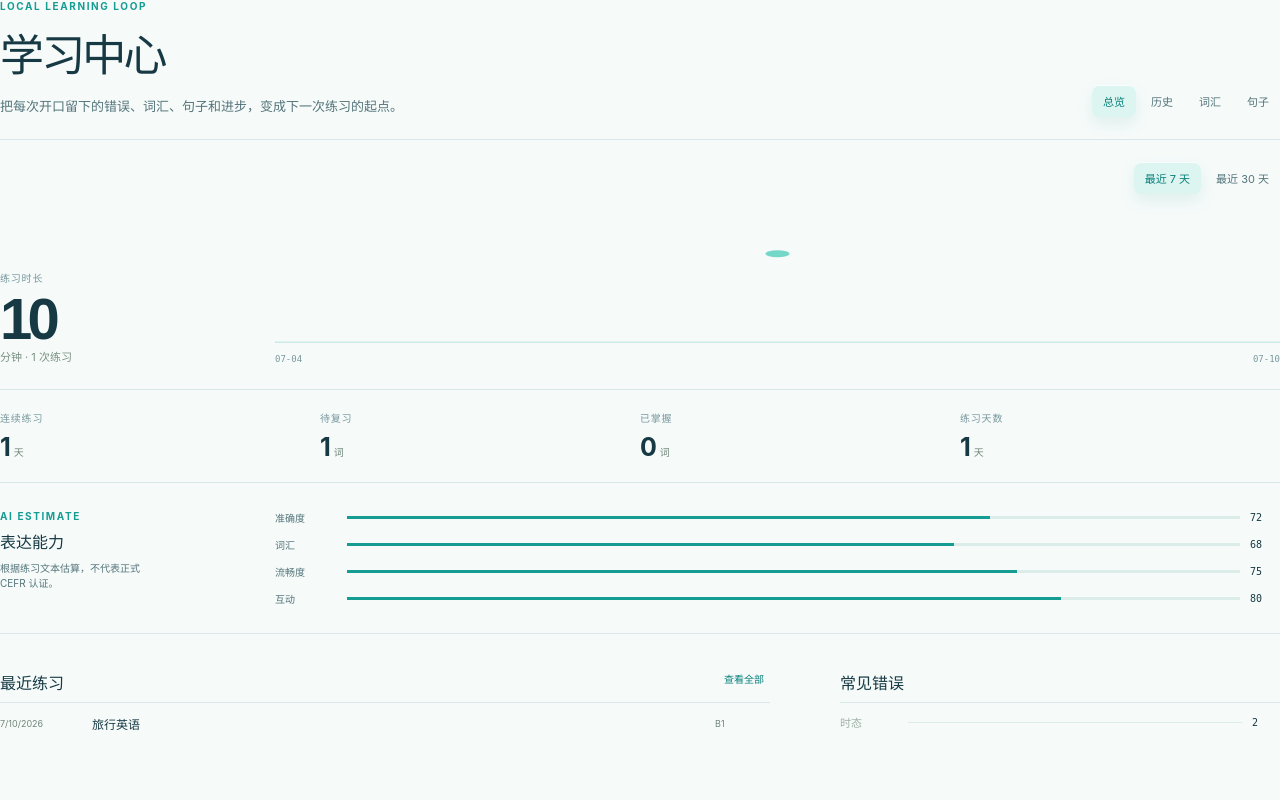
it: LearningCenter › shows the analysis generated with the review and moves the sentence between learning groups
Click the button "句子".
click(1258, 101)  # box [1236, 85, 1279, 117]
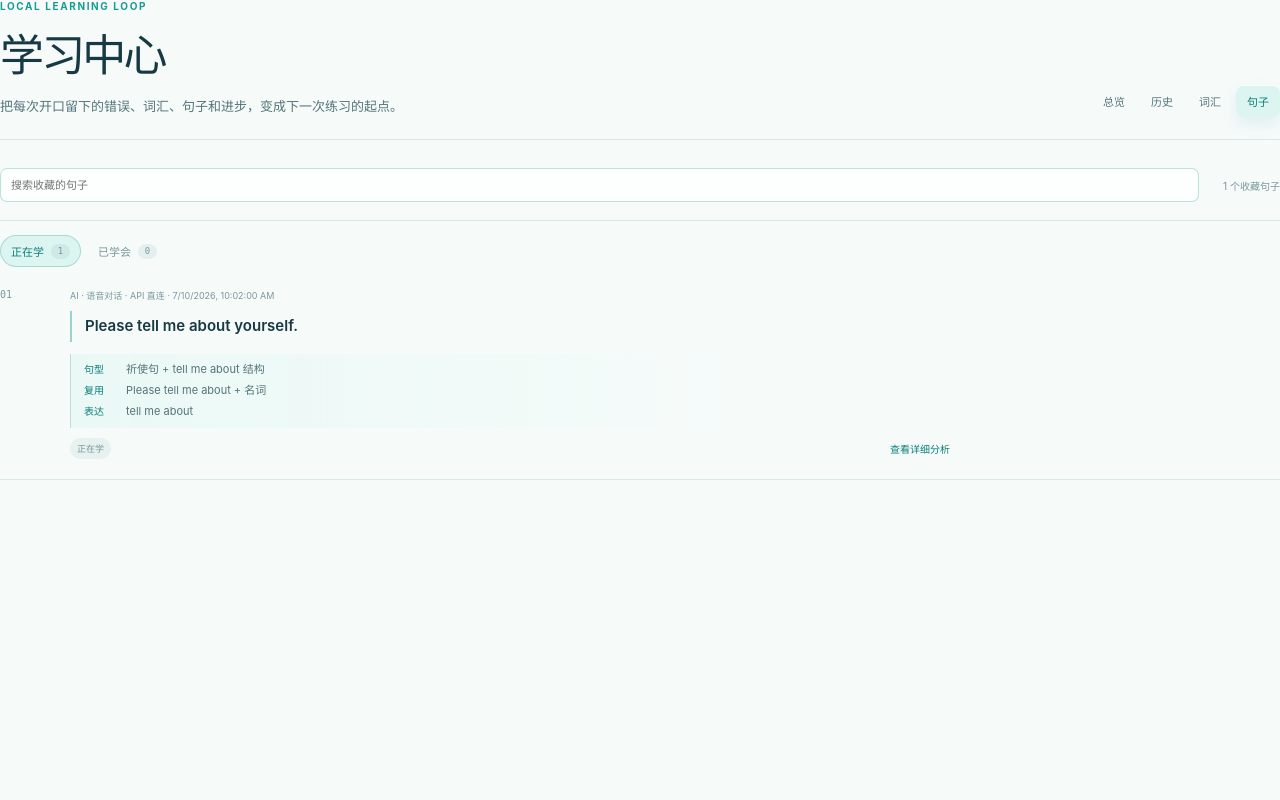
Check: the field named "搜索收藏句子" is shown, box [0, 168, 1199, 202]
Check: the text "Please tell me about yourself." is shown, box [70, 311, 920, 342]
Check: the text "AI · 语音对话 · API 直连" is shown, box [70, 290, 274, 301]
Click the button with class "sentence-row-button".
click(675, 374)  # box [70, 289, 1279, 459]
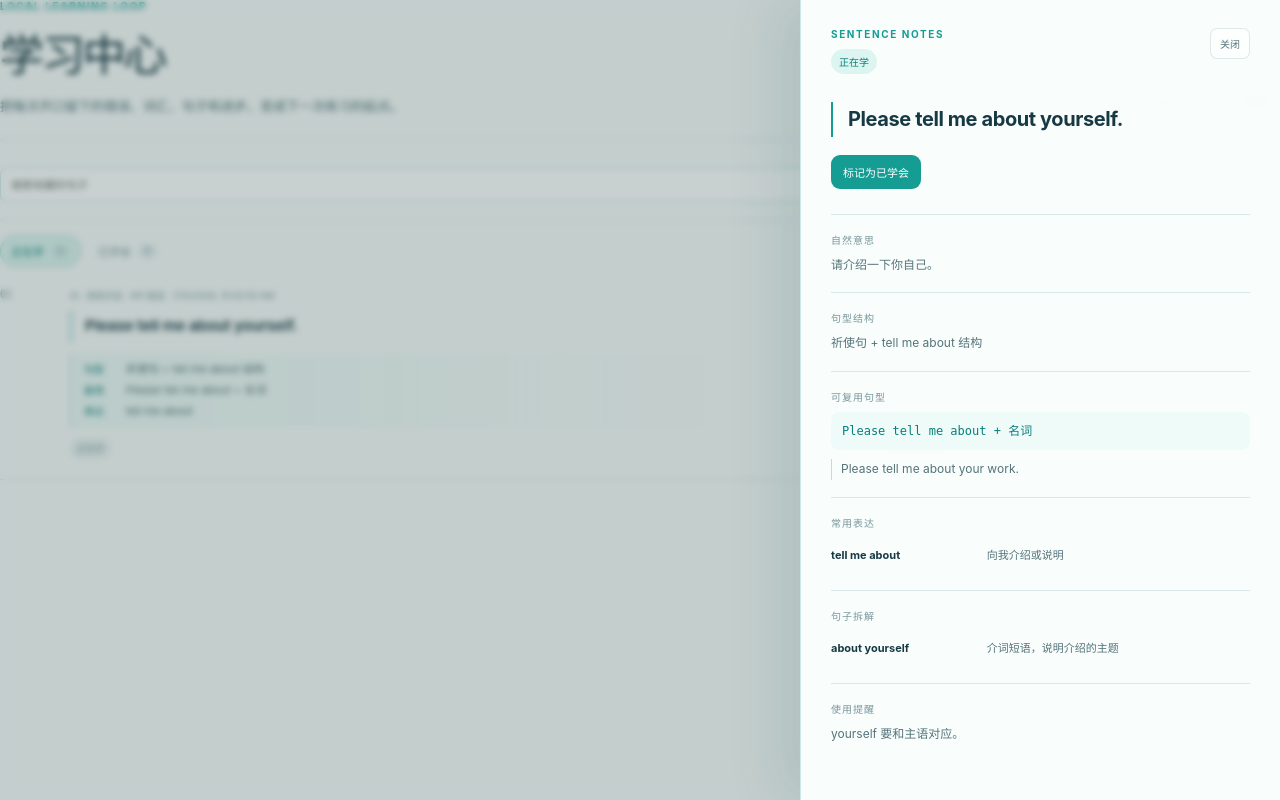
Check: the text "请介绍一下你自己。" is shown, box [831, 257, 939, 272]
Click the button "标记为已学会".
click(876, 172)  # box [831, 155, 921, 189]
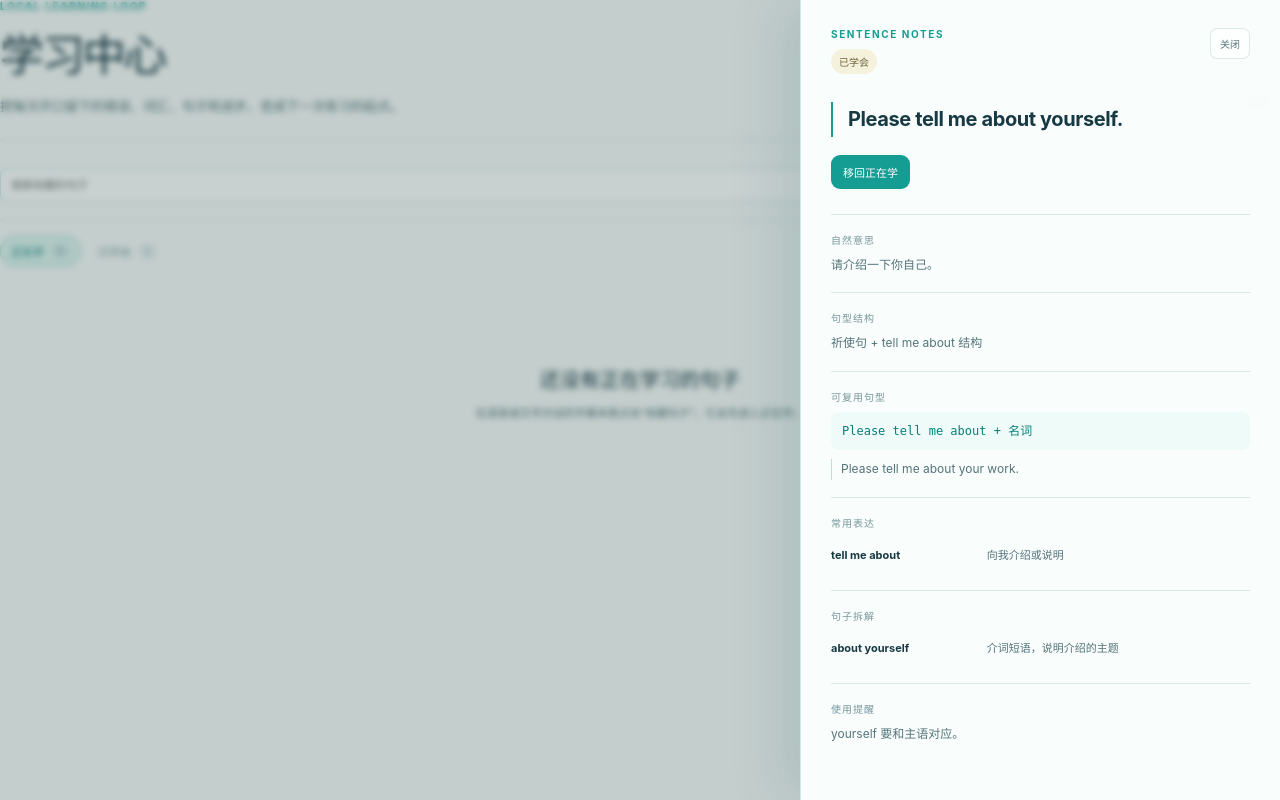
Check: the text "移回正在学" is shown, box [831, 155, 910, 189]
Click the button "关闭".
click(1230, 44)  # box [1210, 28, 1250, 59]
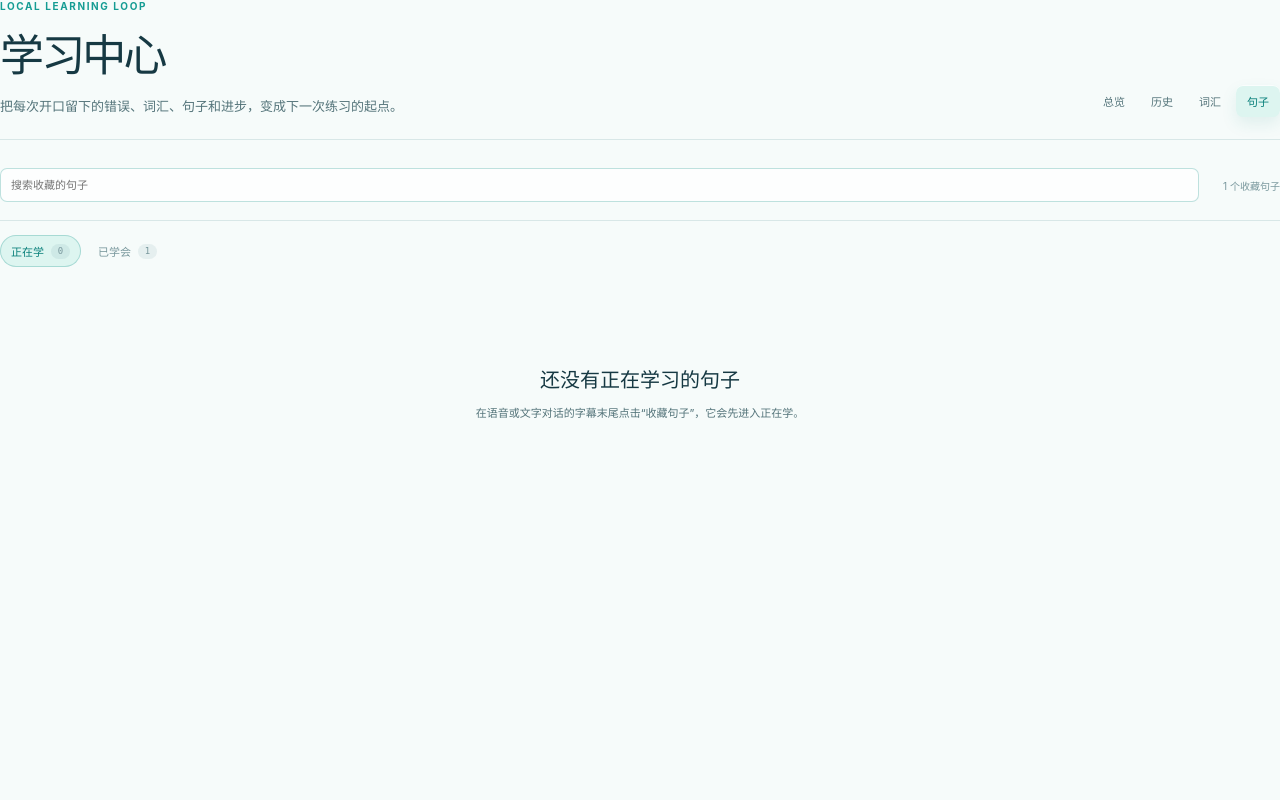
Click the tab "已学会 1".
click(128, 251)  # box [87, 235, 168, 267]
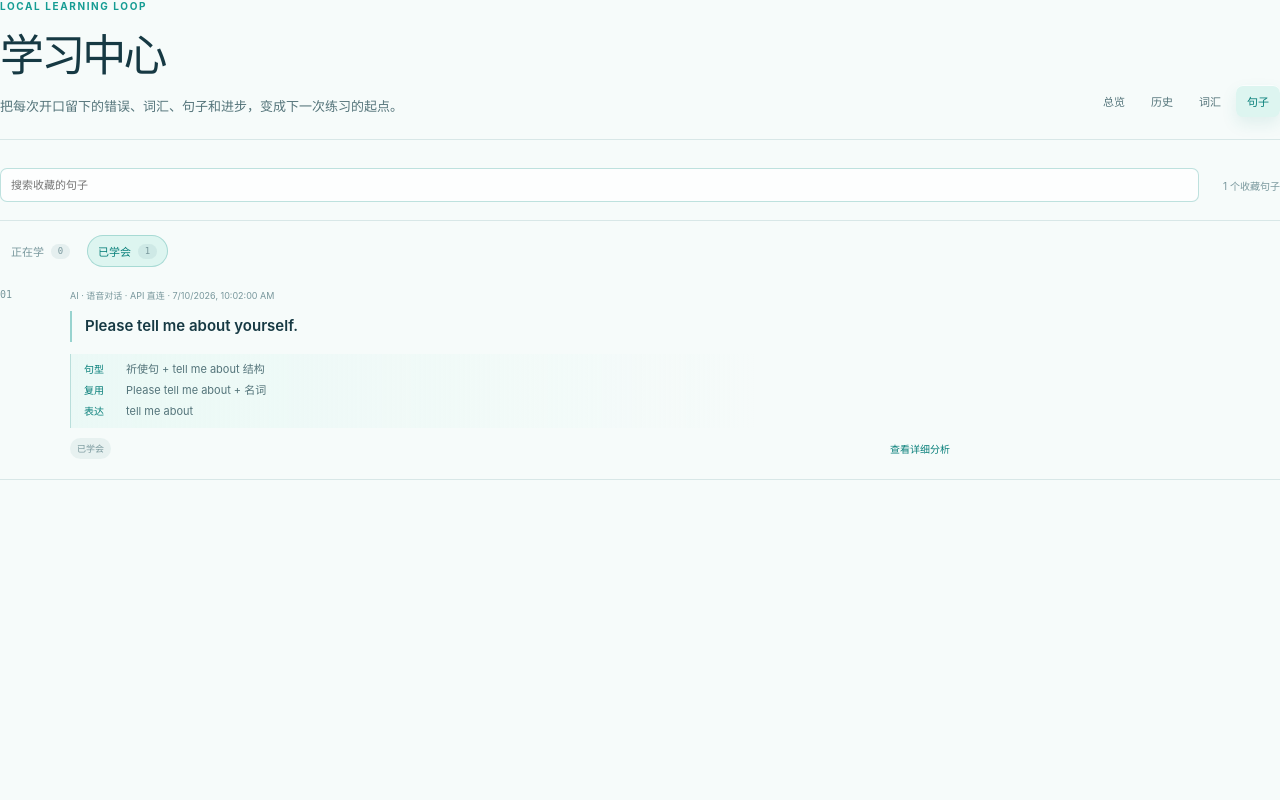
Check: the text "Please tell me about yourself." is shown, box [70, 311, 920, 342]
